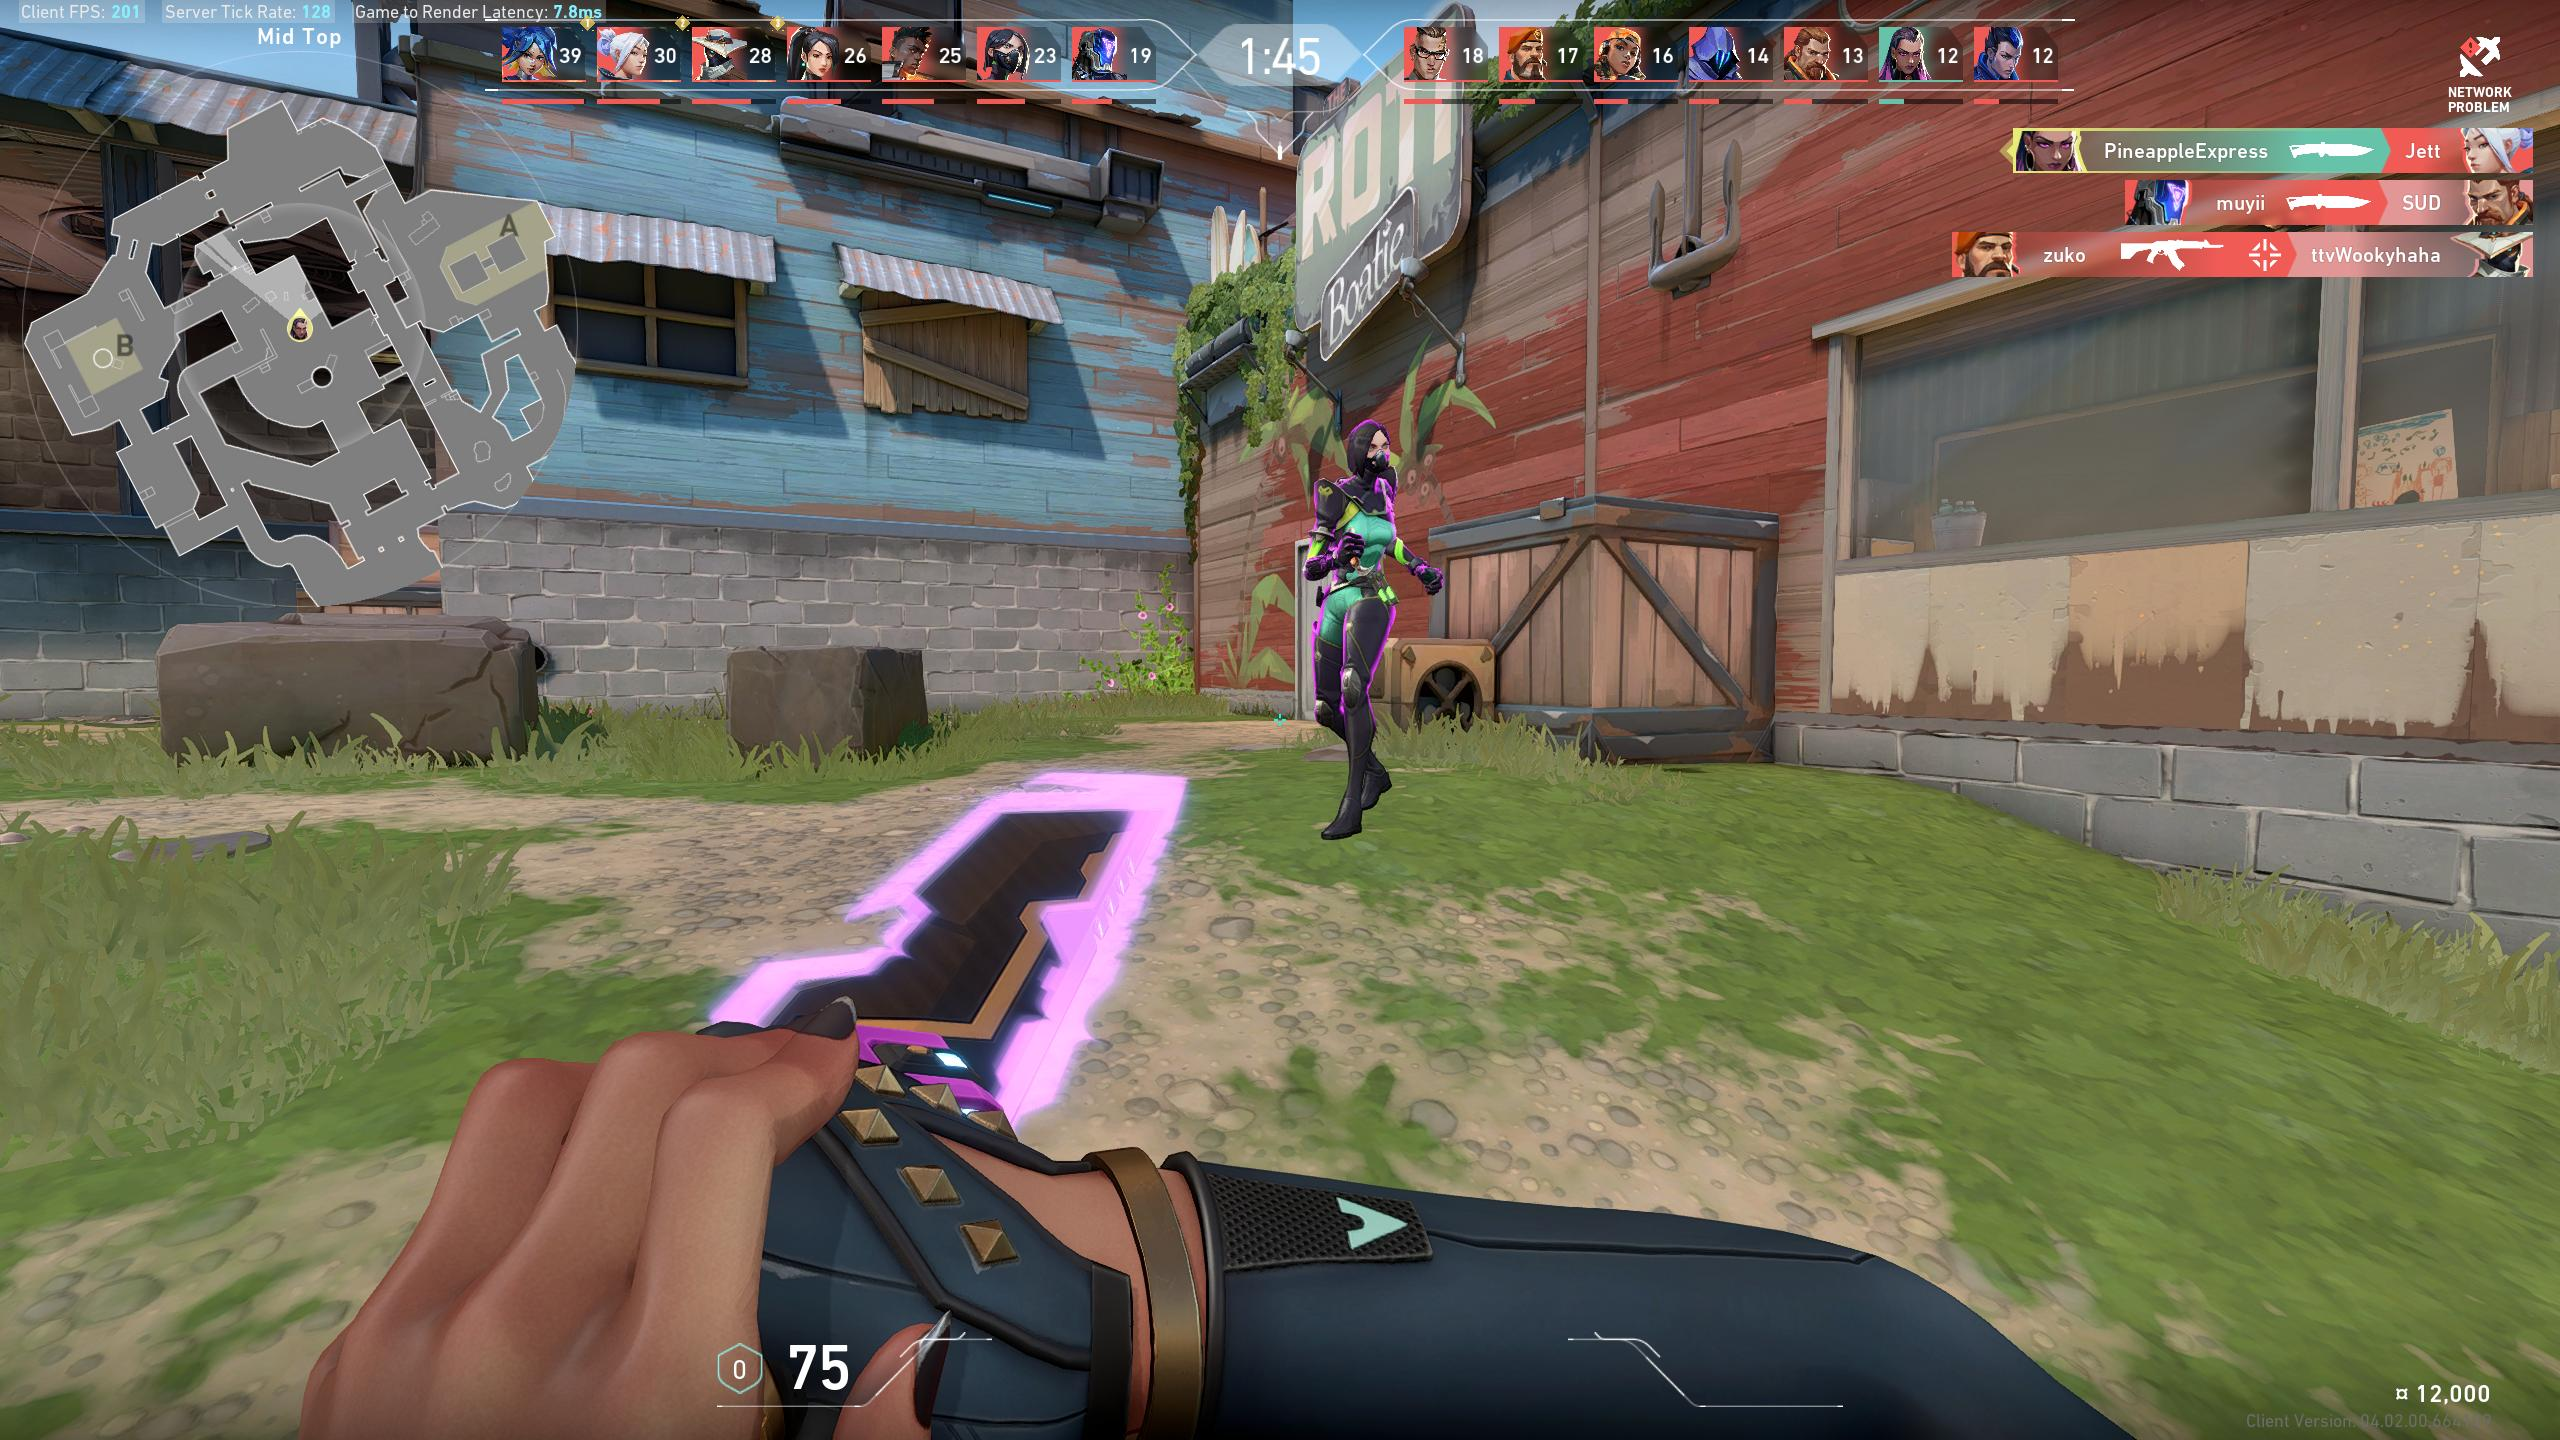enemyBody: (1342, 492, 1385, 573)
enemyHead: (1357, 436, 1389, 475)
